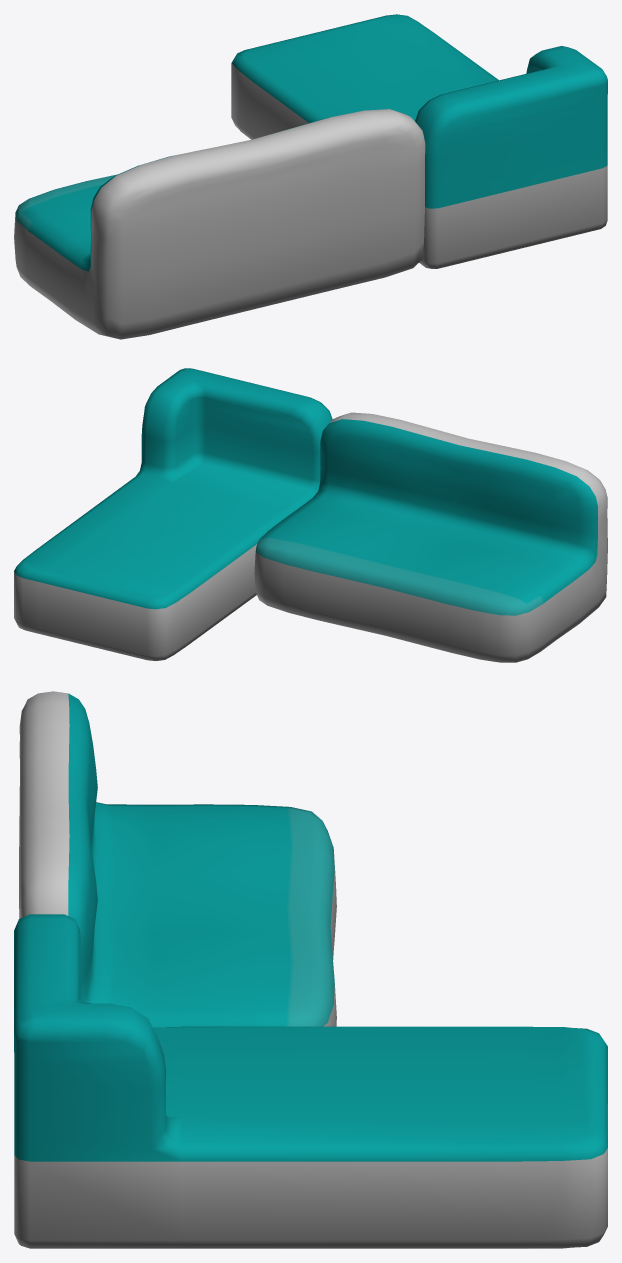
The model's file is top siting sofa.fbx.
The picture shows the model from 3 angles, top to bottom: view 1: azimuth 30°, elevation 25°; view 2: azimuth 150°, elevation 25°; view 3: azimuth 270°, elevation 25°; orthographic projection. The views are drawn at different scales.
Visible parts, largest first — view 1: top siting sofa; view 2: top siting sofa; view 3: top siting sofa.
Part boxes in pixels (<box>): top siting sofa: <box>14,14,607,339</box>; top siting sofa: <box>14,368,607,662</box>; top siting sofa: <box>14,691,607,1248</box>.
Size of the model in its own units: 482 by 150 by 342.
